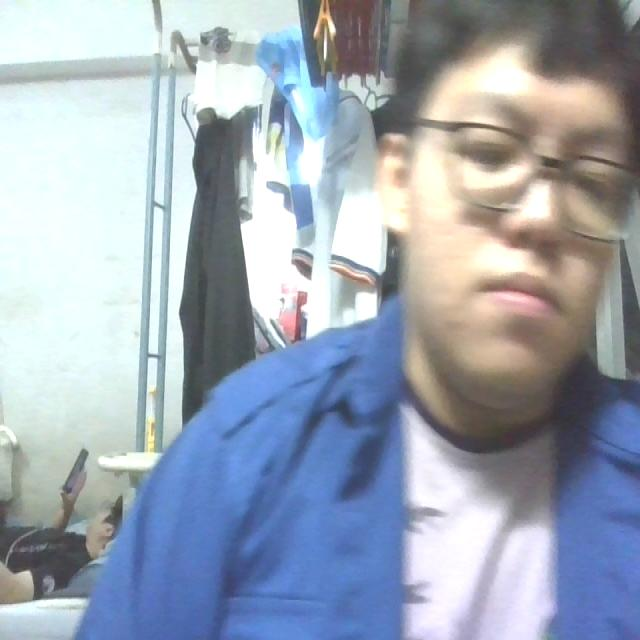person_with_labcoat: (78, 0, 639, 639)
